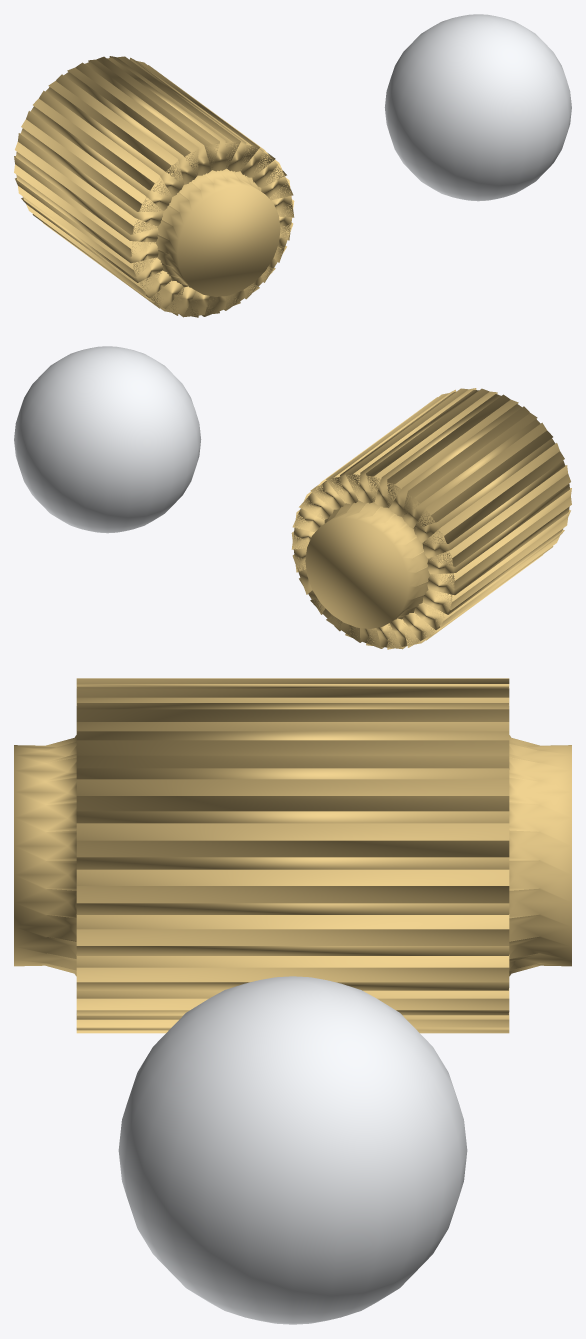
File: galton.glb
3 views of the same model, one above another, from view 1: azimuth 30°, elevation 25°; view 2: azimuth 150°, elevation 25°; view 3: azimuth 270°, elevation 25° (orthographic). The views are drawn at different scales.
Visible parts, largest first — view 1: Peg, Ball; view 2: Peg, Ball; view 3: Peg, Ball.
Boxes of the visible parts, <box> form: Peg: <box>14,56,294,317</box>; Ball: <box>384,14,571,201</box>; Peg: <box>291,388,571,649</box>; Ball: <box>14,346,201,533</box>; Peg: <box>14,678,571,1033</box>; Ball: <box>118,976,467,1324</box>.
Size of the model in its own units: 3.01 by 1.01 by 1.6.
